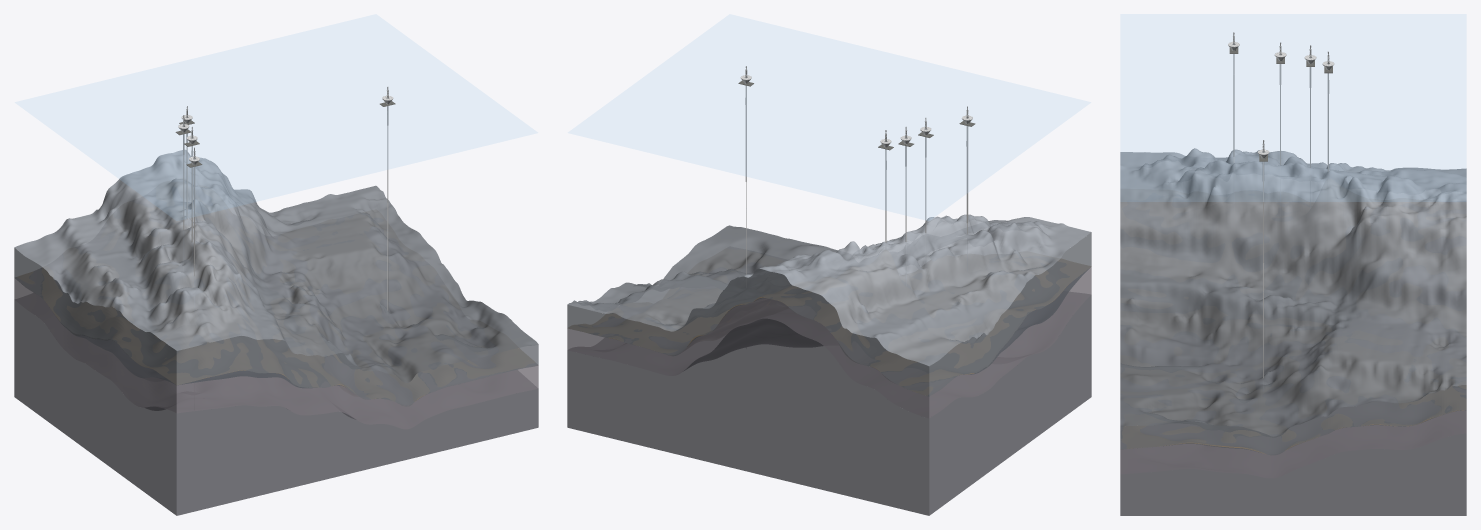
The model's file is Exaggerated.glb.
3 views of the same model, side by side, from view 1: azimuth 30°, elevation 25°; view 2: azimuth 150°, elevation 25°; view 3: azimuth 270°, elevation 25° (orthographic). The views are drawn at different scales.
Parts seen in each view (by area): view 1: basement_top, seafloor_plane, 5_Undifferentiated_basalt, 4_Lower_pillow_basalt, 1_Upper_pillow_basalt, 2_Hyaloclastite_breccia, 3_Massive_and_sheet_flows; view 2: 5_Undifferentiated_basalt, seafloor_plane, basement_top, 4_Lower_pillow_basalt, 1_Upper_pillow_basalt, 2_Hyaloclastite_breccia, 3_Massive_and_sheet_flows; view 3: basement_top, seafloor_plane, 5_Undifferentiated_basalt, 4_Lower_pillow_basalt, 1_Upper_pillow_basalt, 2_Hyaloclastite_breccia.
Part boxes in pixels (x1,y1,x2,y2): basement_top: [14, 149, 538, 382]; seafloor_plane: [15, 15, 537, 220]; 5_Undifferentiated_basalt: [14, 293, 538, 515]; 4_Lower_pillow_basalt: [14, 269, 538, 429]; 1_Upper_pillow_basalt: [14, 248, 538, 406]; 2_Hyaloclastite_breccia: [18, 268, 534, 401]; 3_Massive_and_sheet_flows: [41, 268, 515, 400]; 5_Undifferentiated_basalt: [567, 292, 1091, 515]; seafloor_plane: [568, 15, 1090, 220]; basement_top: [567, 214, 1091, 366]; 4_Lower_pillow_basalt: [567, 267, 1091, 418]; 1_Upper_pillow_basalt: [567, 232, 1091, 396]; 2_Hyaloclastite_breccia: [568, 259, 1090, 394]; 3_Massive_and_sheet_flows: [569, 262, 1090, 382]; basement_top: [1120, 148, 1466, 436]; seafloor_plane: [1121, 14, 1465, 201]; 5_Undifferentiated_basalt: [1120, 411, 1466, 515]; 4_Lower_pillow_basalt: [1120, 388, 1466, 478]; 1_Upper_pillow_basalt: [1120, 385, 1466, 455]; 2_Hyaloclastite_breccia: [1122, 385, 1465, 454].
Bounding box in the file's own units: 4500 × 3706 × 3500.
57 materials, 30 textured.
